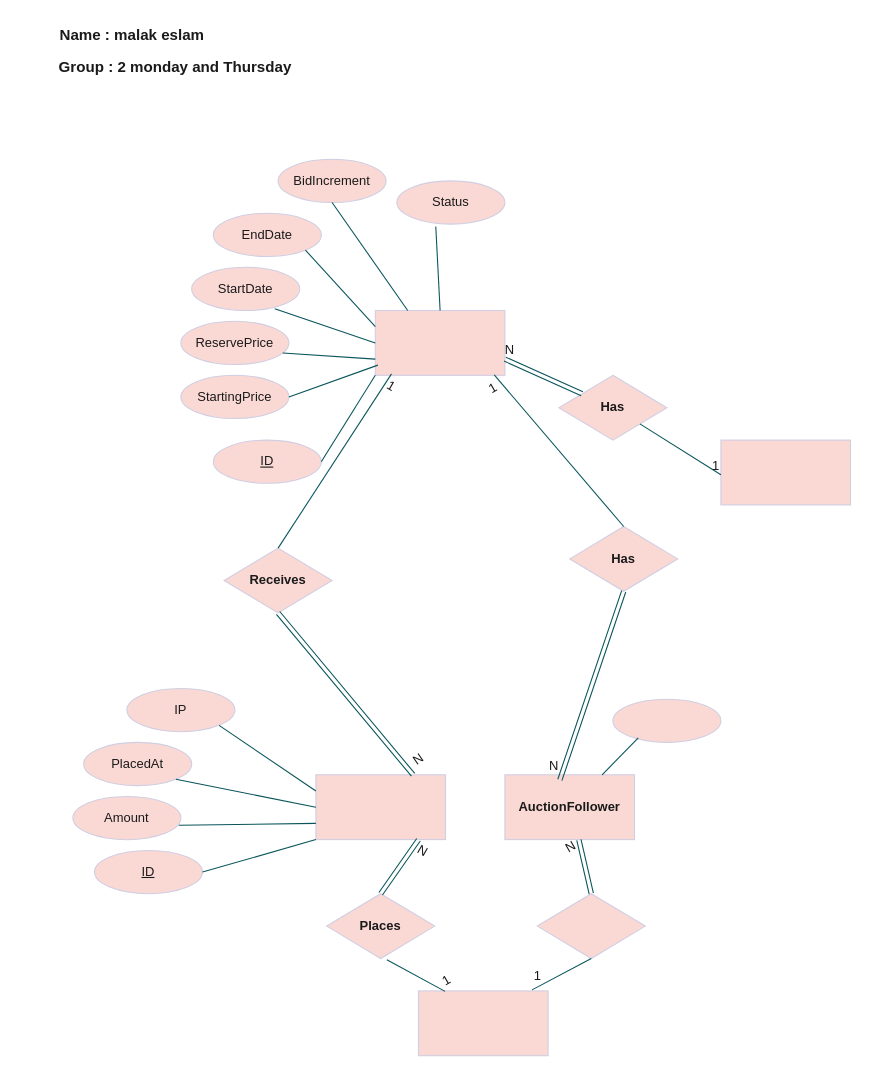
Some shapes in this 869 by 1075 pixel diagram are drawn without their labels. Each missing label, with the box of its shape:
Auction: (374, 309, 505, 375)
Bid: (315, 774, 446, 840)
FollowedAt: (612, 698, 721, 742)
Follows: (536, 893, 645, 959)
Item: (720, 439, 850, 505)
Member: (417, 990, 548, 1056)
